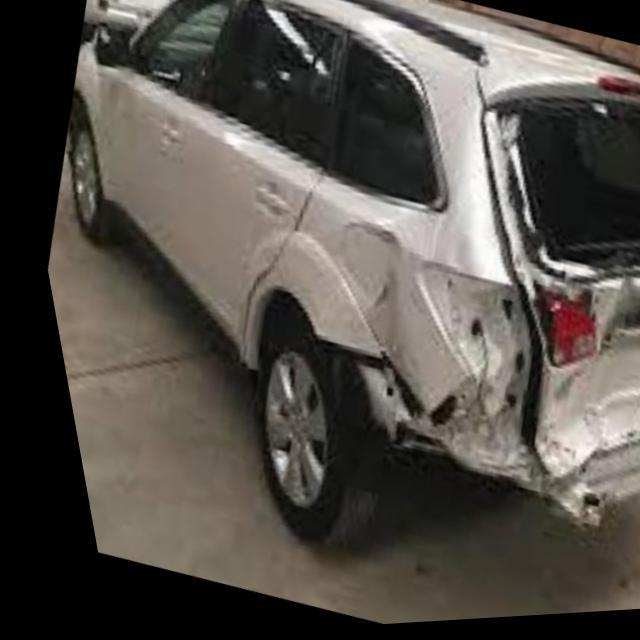crash: (304, 192, 640, 527)
